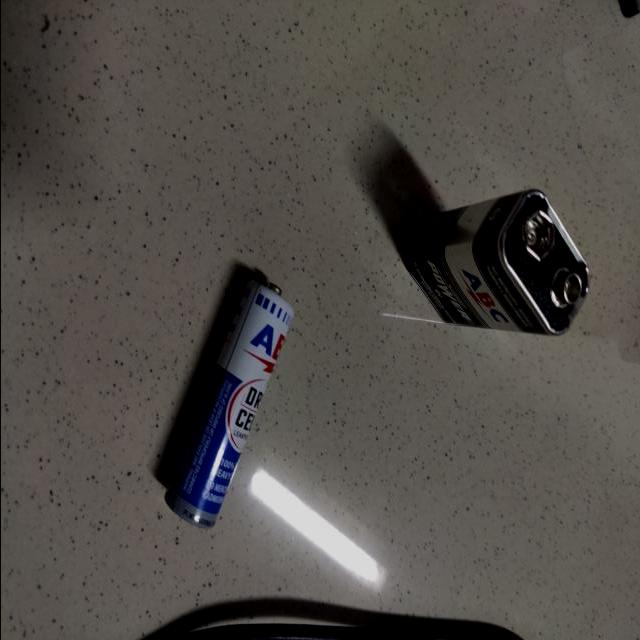9V: (405, 174, 599, 352)
AAA: (150, 267, 310, 534)
